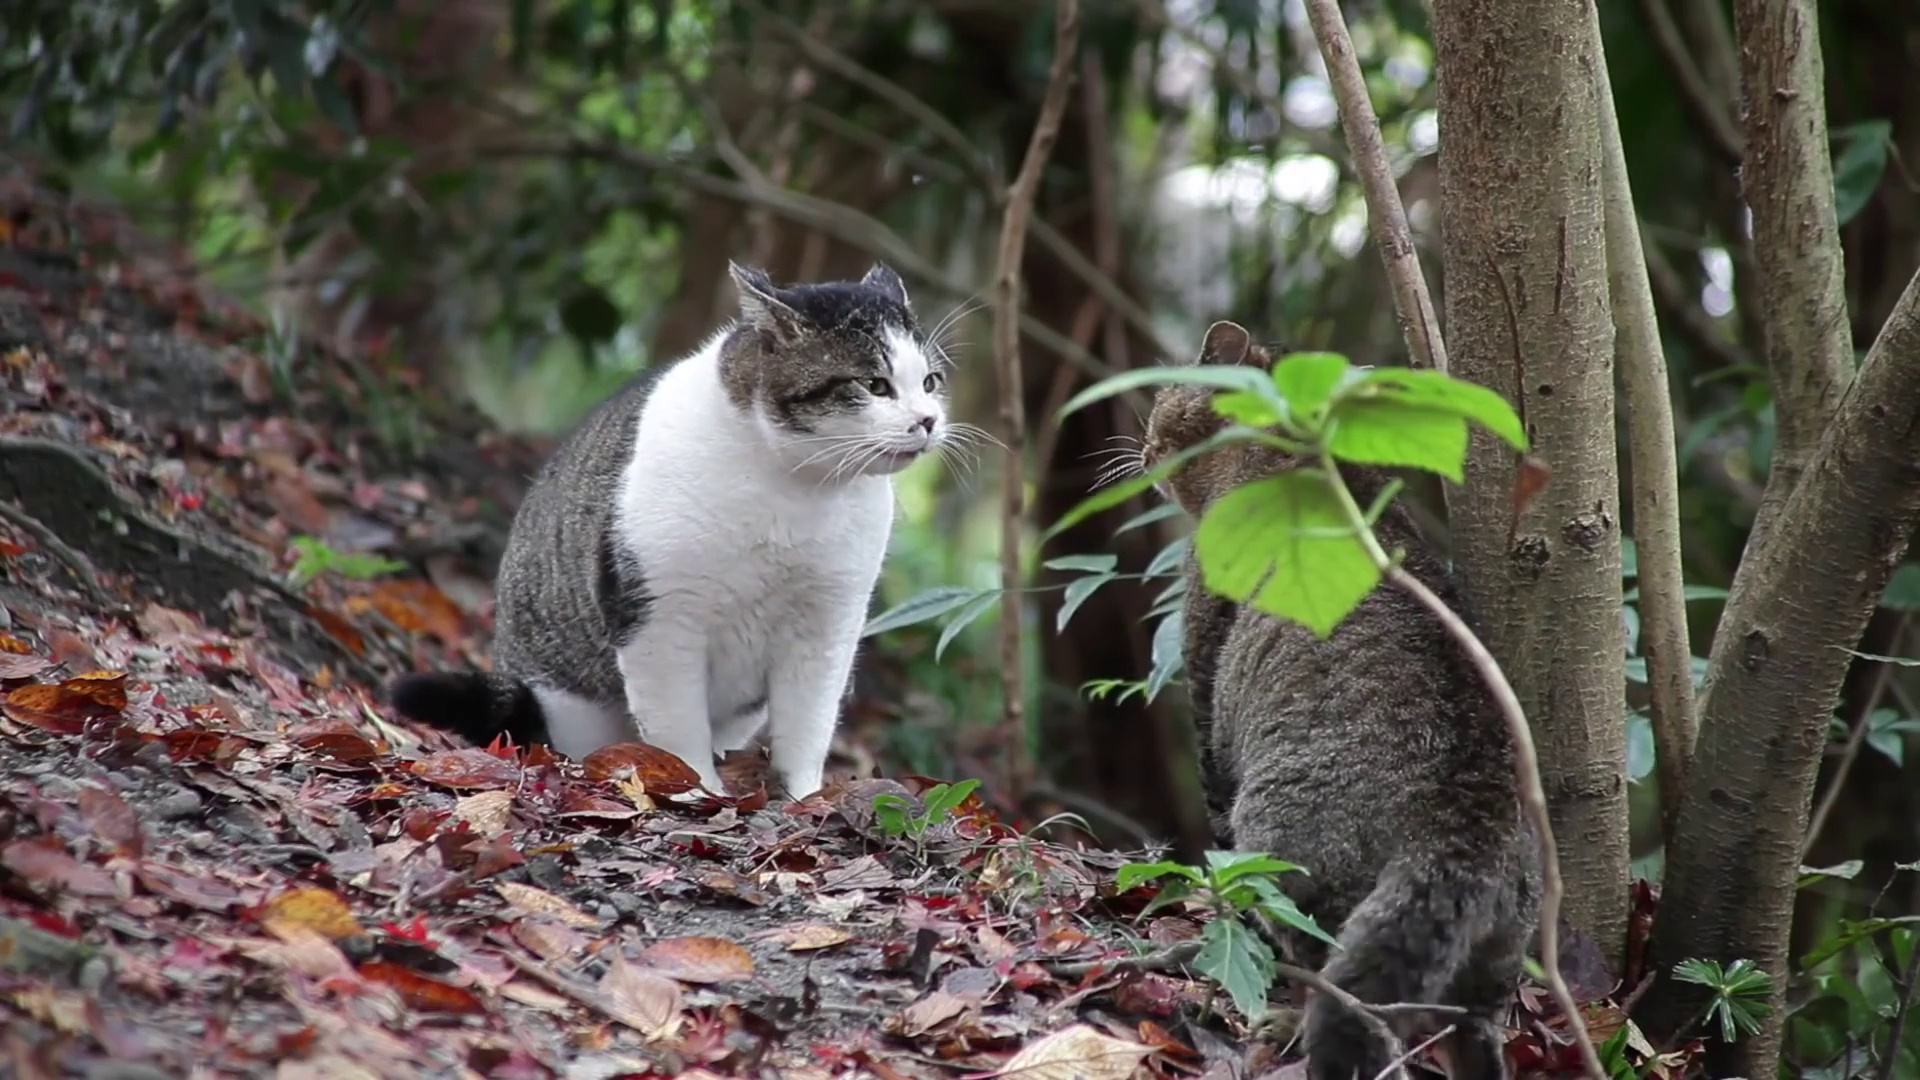black-white: (396, 258, 945, 806)
pure black: (1139, 319, 1538, 1080)
